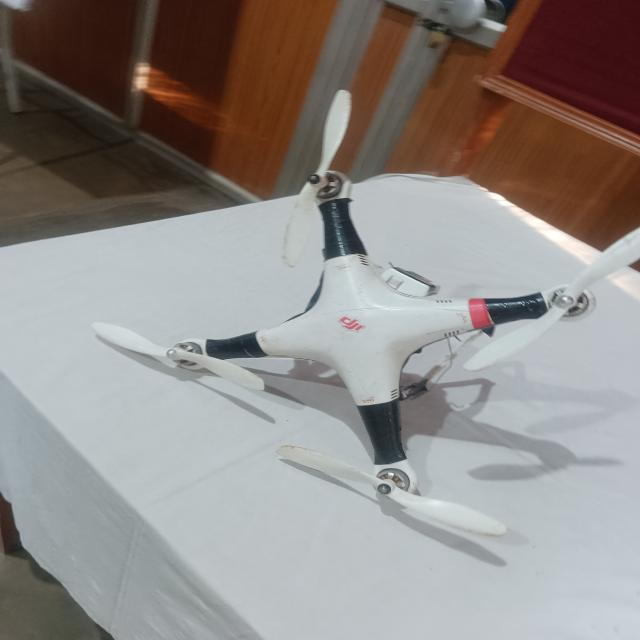drone: (129, 134, 640, 557)
